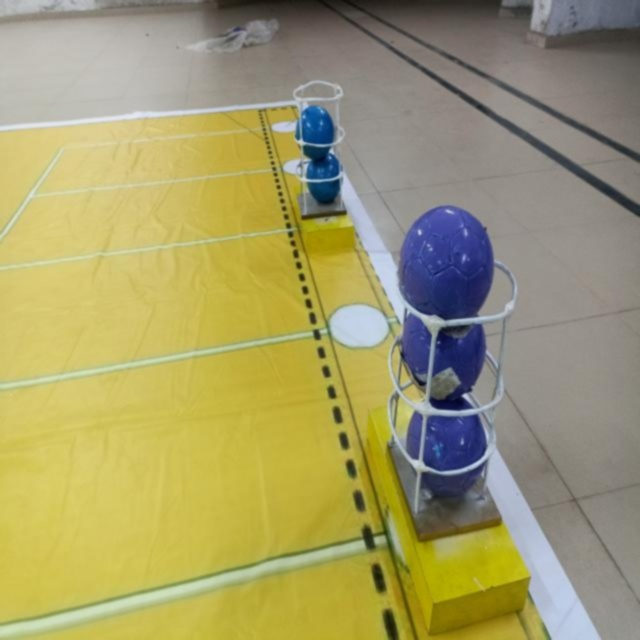blue_ball: (296, 104, 335, 155), (305, 156, 343, 202)
purple_ball: (400, 205, 502, 326), (403, 398, 493, 496), (394, 311, 489, 390)
silo: (389, 210, 518, 516), (297, 80, 349, 221)
